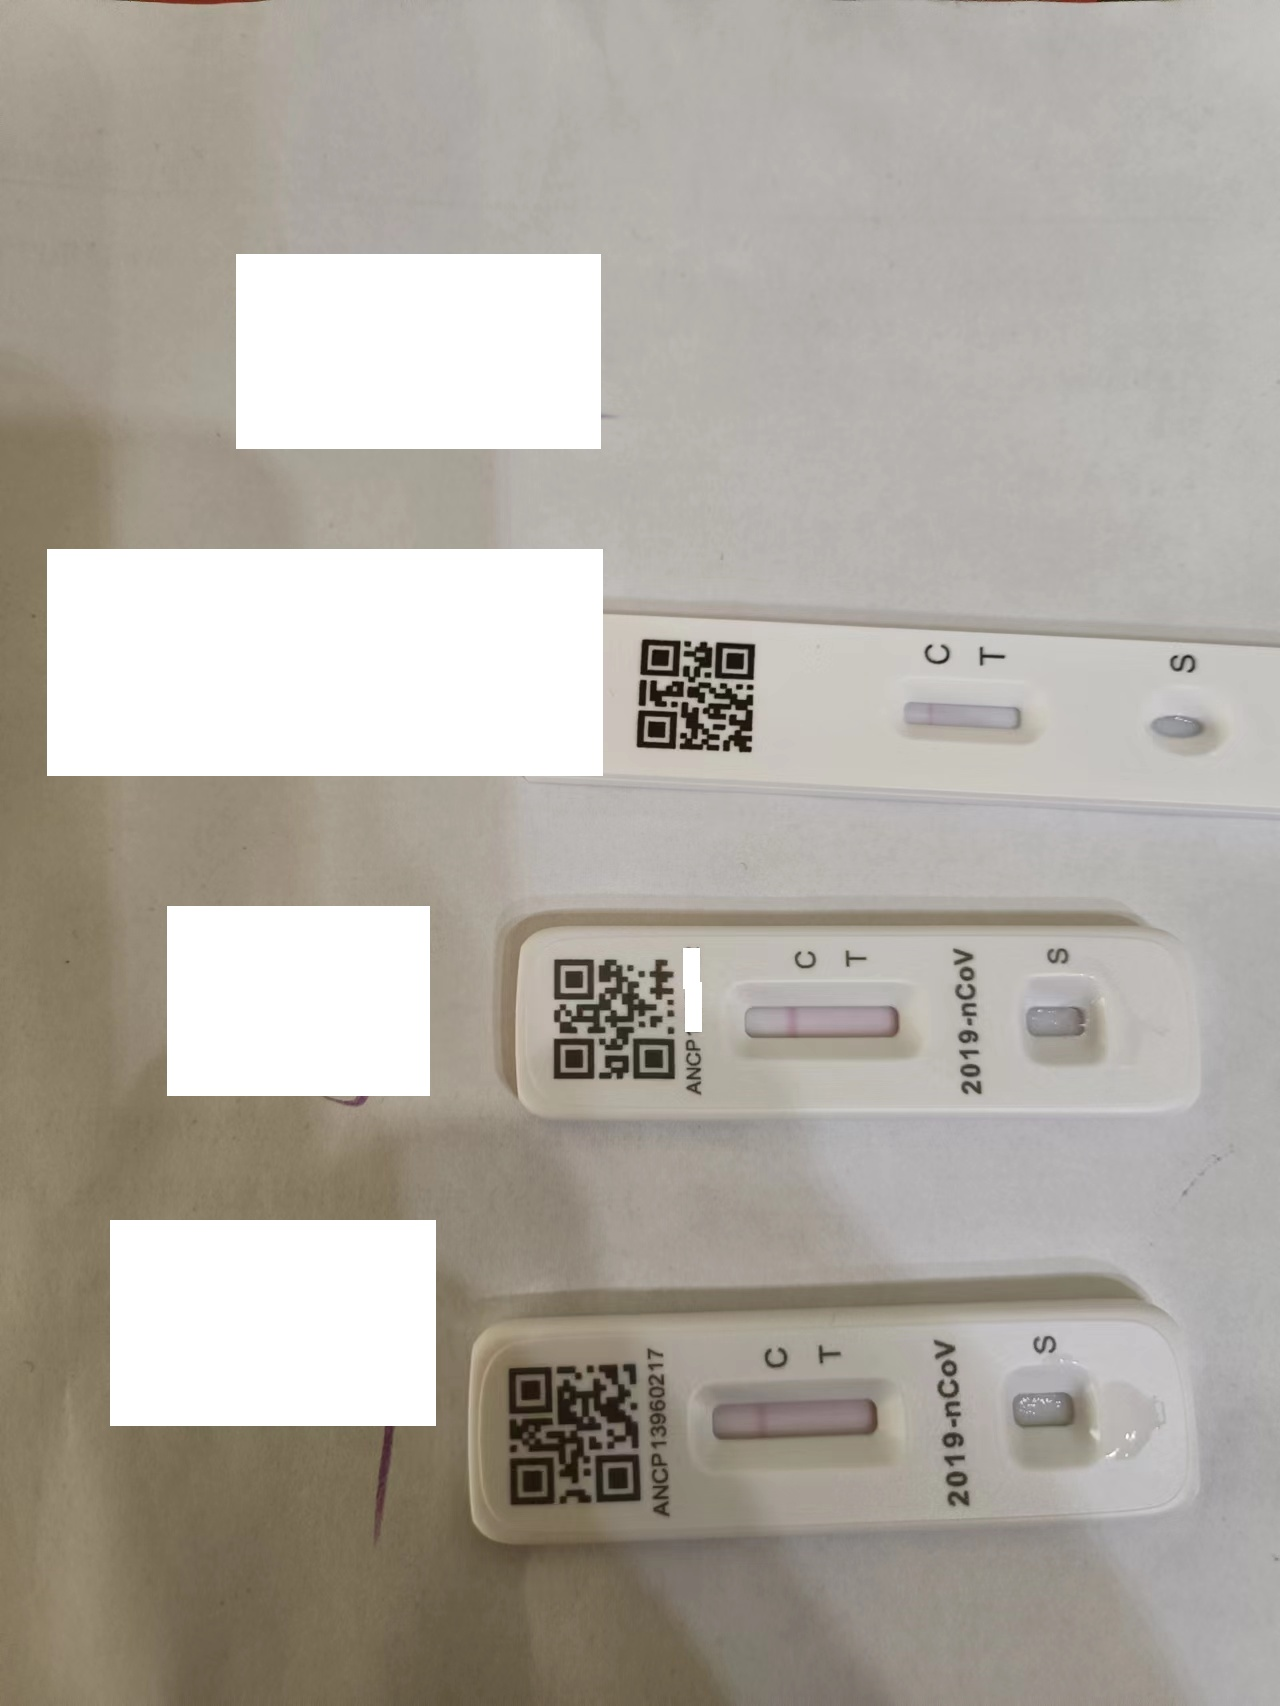negative: (691, 1381, 909, 1473), (727, 984, 922, 1069), (899, 684, 1035, 743)
